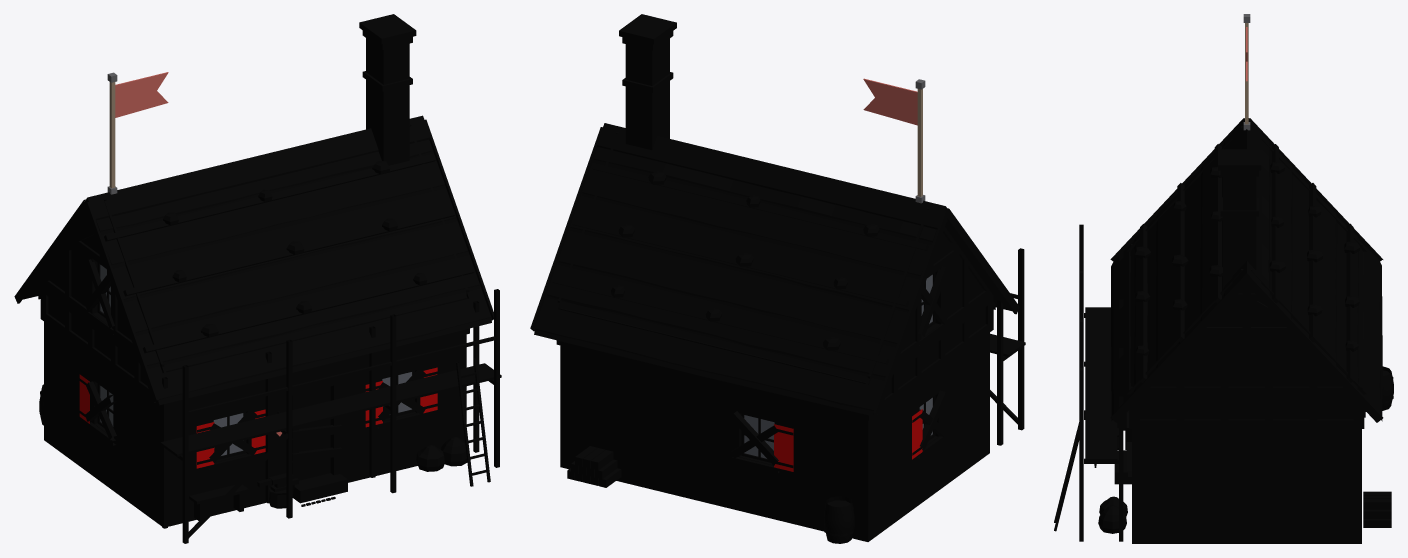
File: wohnhaus_zwerg_s1_g2.glb
3 renders of one model, left to right at view 1: azimuth 30°, elevation 25°; view 2: azimuth 150°, elevation 25°; view 3: azimuth 270°, elevation 25°, orthographic. The views are drawn at different scales.
Visible parts, largest first — view 1: Dach, Haus, Geruest, Leerstand, Fahne, Scheiben; view 2: Dach, Haus, Geruest, Leerstand, Fahne, Scheiben; view 3: Haus, Dach, Geruest, Fahne.
Boxes of the visible parts, box(x1,y1,x2,y2) form: Dach: box(14, 115, 493, 405); Haus: box(39, 14, 470, 526); Geruest: box(160, 289, 501, 543); Leerstand: box(85, 259, 426, 462); Fahne: box(107, 72, 168, 194); Scheiben: box(100, 265, 412, 455); Dach: box(530, 123, 1019, 416); Haus: box(555, 14, 993, 543); Geruest: box(990, 248, 1025, 445); Leerstand: box(730, 266, 948, 465); Fahne: box(863, 78, 925, 203); Scheiben: box(744, 274, 932, 458); Haus: box(1084, 126, 1393, 543); Dach: box(1110, 118, 1383, 422); Geruest: box(1054, 224, 1123, 541); Fahne: box(1243, 14, 1250, 130).
Bounding box in the file's own units: 7.85 × 9 × 7.09.
